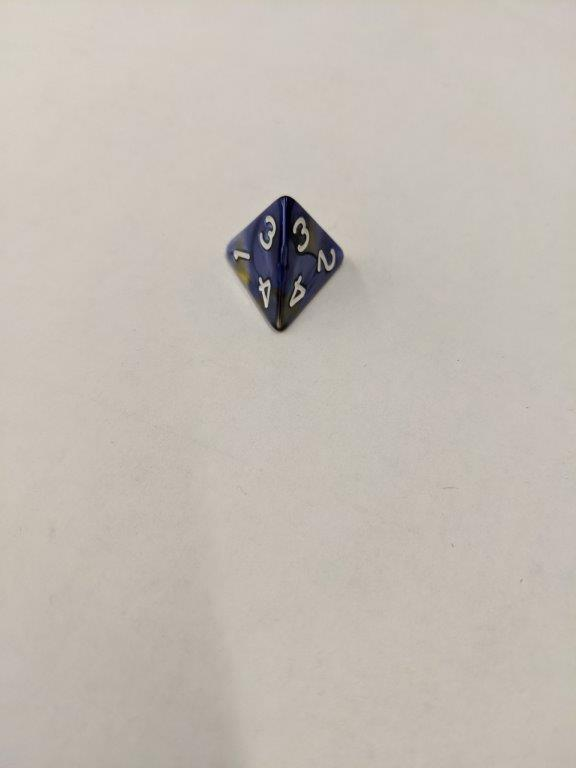d4-3: (224, 195, 351, 336)
